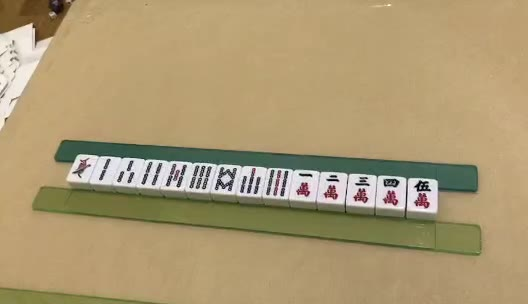1m: (293, 173, 313, 197)
1s: (71, 158, 92, 178)
2m: (323, 174, 340, 200)
2s: (97, 159, 111, 180)
3m: (353, 176, 372, 203)
3s: (116, 160, 135, 183)
4m: (380, 178, 400, 206)
4s: (141, 162, 161, 185)
5m: (414, 179, 431, 209)
5s: (166, 164, 186, 188)
6s: (190, 165, 210, 189)
7s: (241, 168, 261, 195)
8s: (215, 167, 236, 191)
9s: (267, 169, 288, 196)
